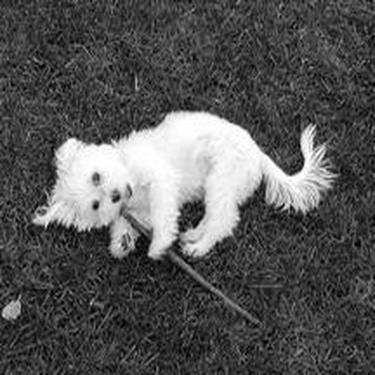dog: (25, 110, 341, 268)
